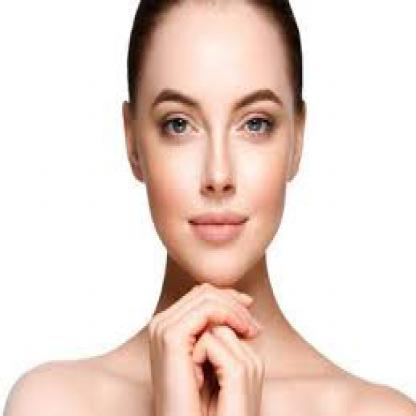wrinkle: (232, 249, 275, 295), (154, 162, 195, 190), (166, 247, 190, 288), (233, 178, 262, 202)
